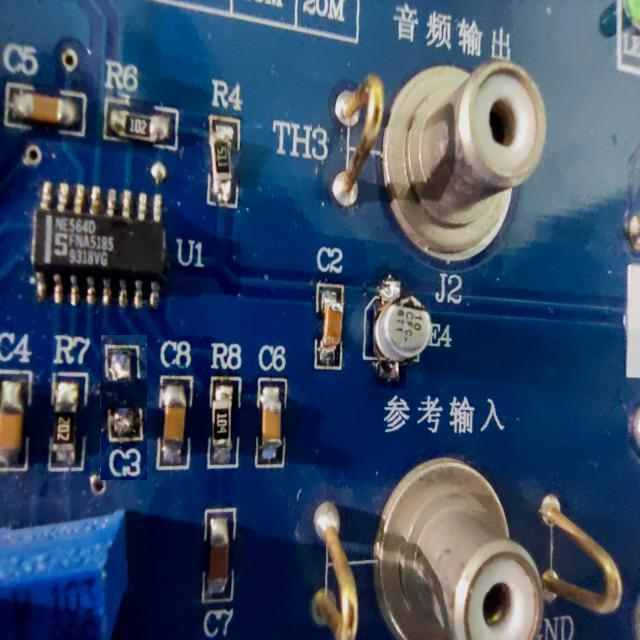miss_welding: (100, 334, 147, 480)
